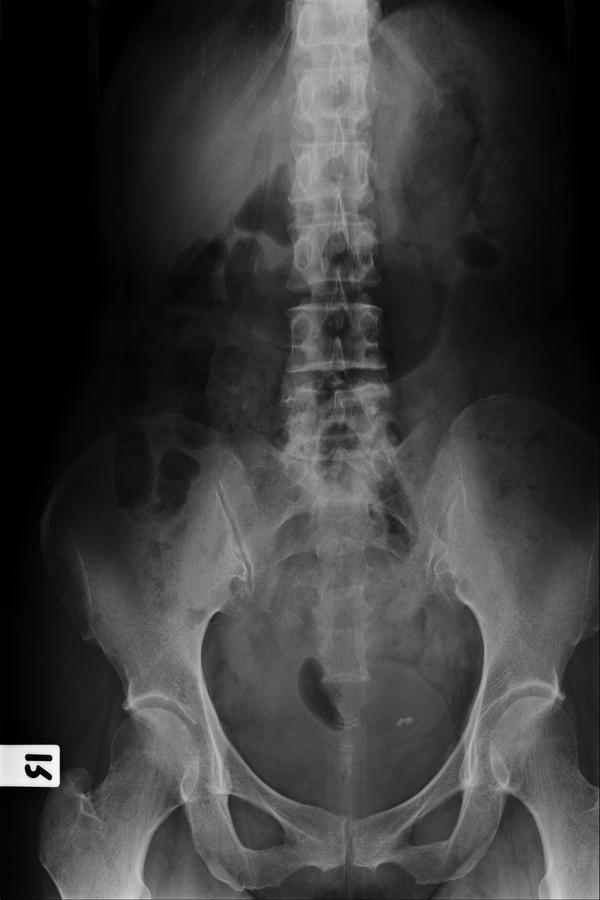not lumbar scoliosis: (275, 138, 393, 509)
